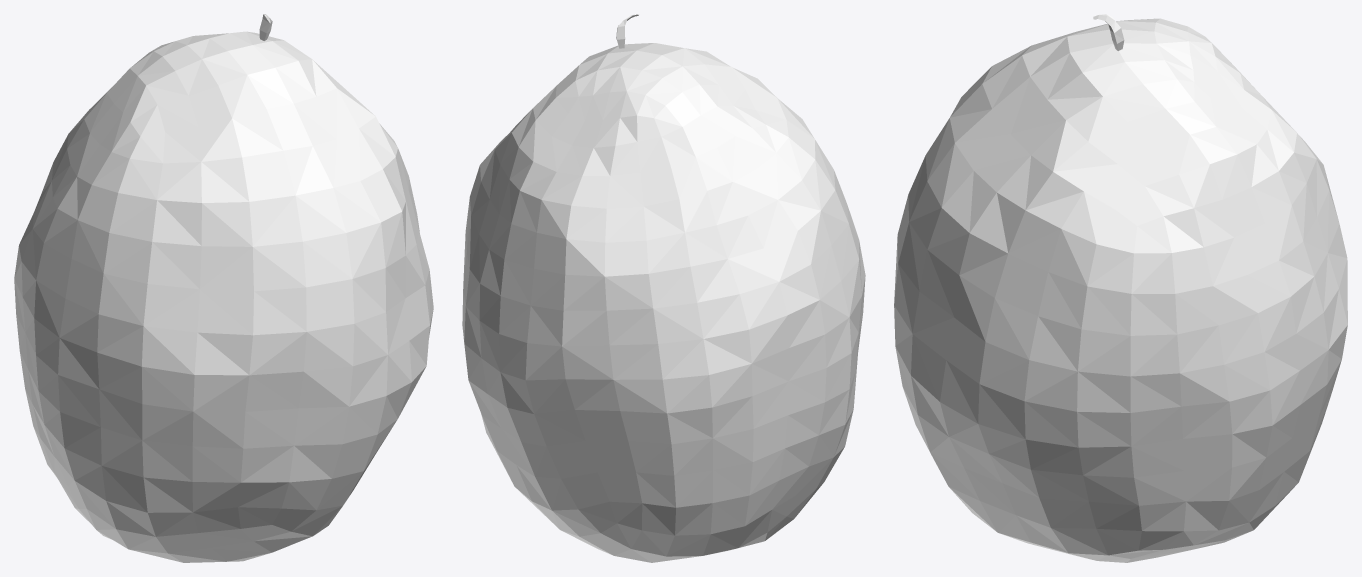
File: normalsobj.OBJ
3 renders of one model, left to right at view 1: azimuth 30°, elevation 25°; view 2: azimuth 150°, elevation 25°; view 3: azimuth 270°, elevation 25°, orthographic. The views are drawn at different scales.
Parts seen in each view (by area): view 1: ZBrush_defualt_group; view 2: ZBrush_defualt_group; view 3: ZBrush_defualt_group.
Boxes of the visible parts, box(x1,y1,x2,y2) form: ZBrush_defualt_group: box(14, 31, 433, 562); ZBrush_defualt_group: box(462, 43, 865, 562); ZBrush_defualt_group: box(894, 18, 1347, 562).
Bounding box in the file's own units: 9.66 × 13.17 × 9.73.
1 material, 1 textured.
